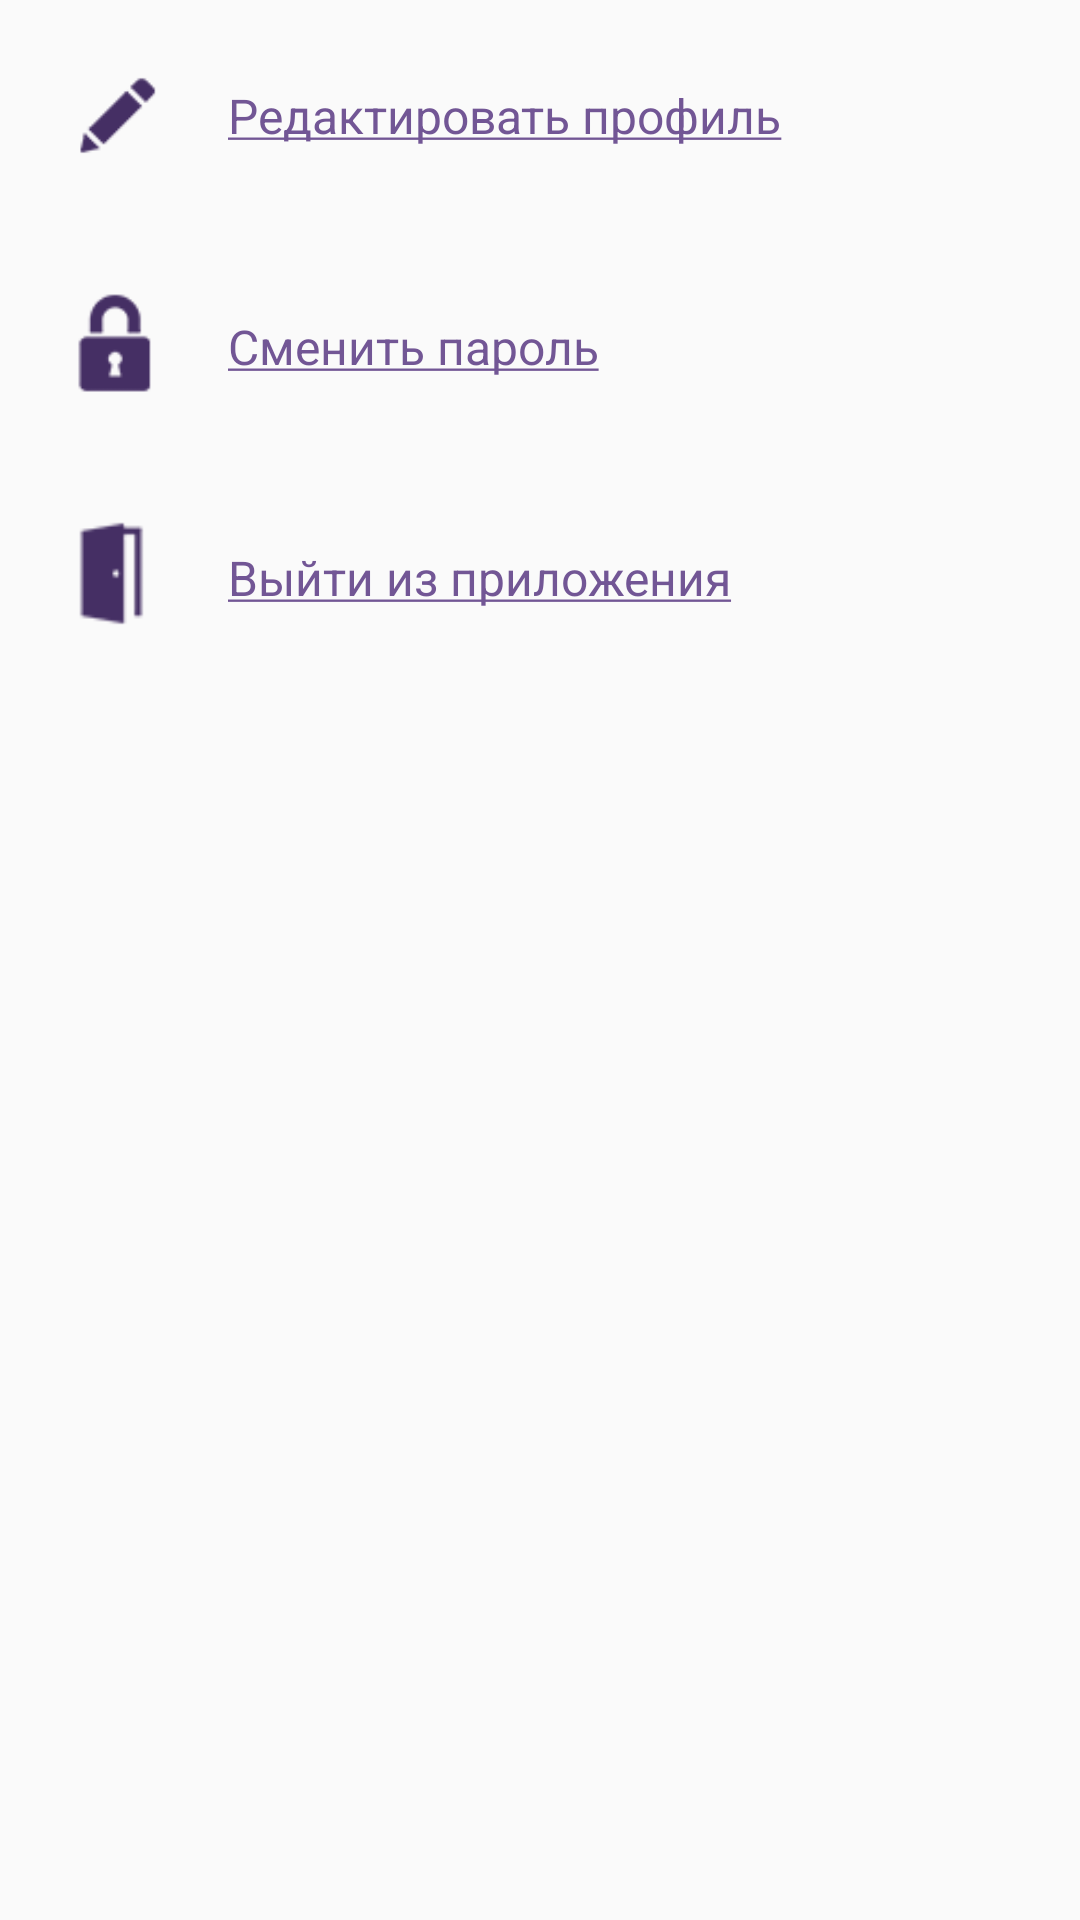

Locate icon controls on the screen. Image size 1080px×1920px, boxes as {"x1": x1, "y1": y1, "x2": x2, "y2": y2}.
edit profile: {"x1": 80, "y1": 78, "x2": 156, "y2": 153}
exit: {"x1": 80, "y1": 523, "x2": 143, "y2": 624}
password: {"x1": 78, "y1": 294, "x2": 151, "y2": 392}
